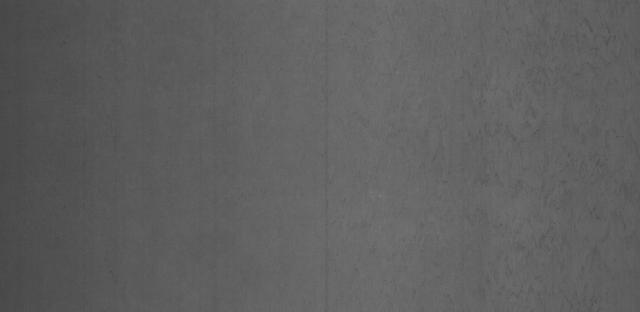silk_spot: (356, 20, 621, 298)
